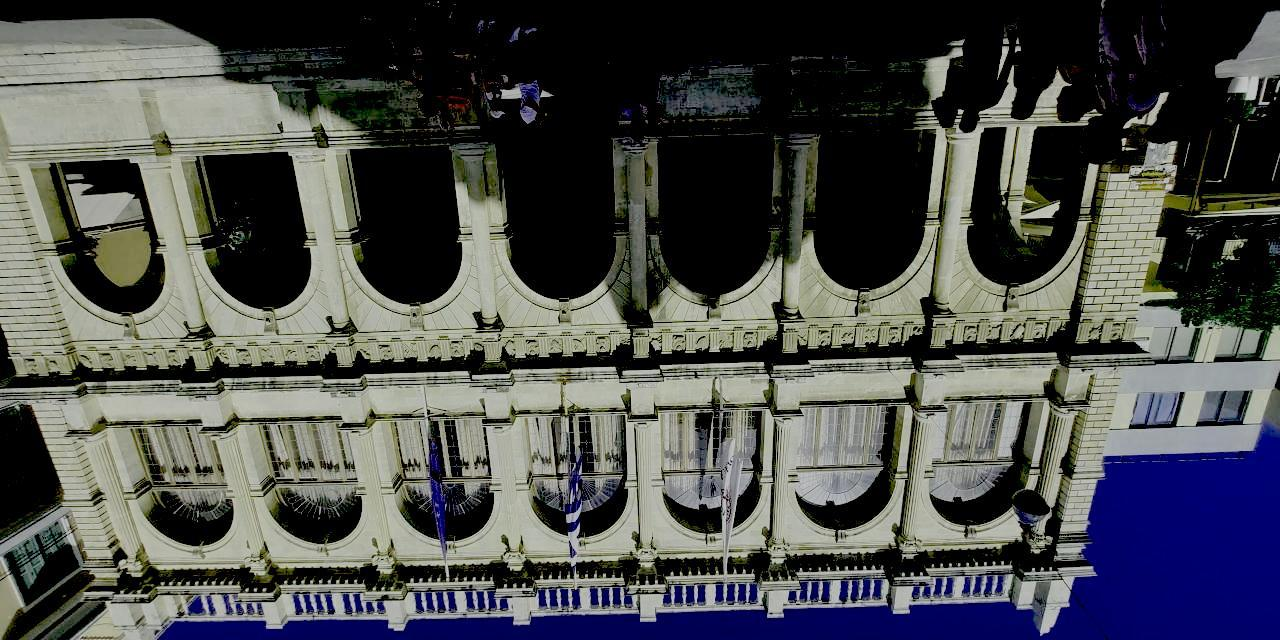Loggia: (1, 49, 1221, 640)
